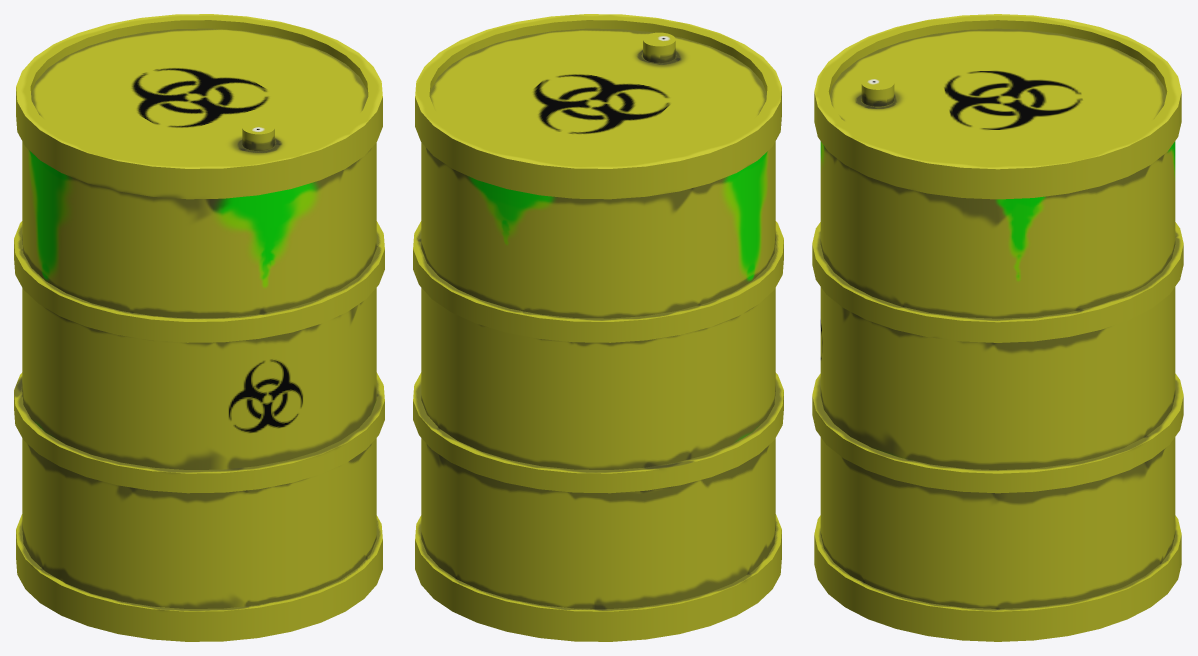
The model's file is toxicbarrel.fbx.
The picture shows the model from 3 angles, left to right: view 1: azimuth 30°, elevation 25°; view 2: azimuth 150°, elevation 25°; view 3: azimuth 270°, elevation 25°; orthographic projection.
Visible parts, largest first — view 1: Cylinder.001; view 2: Cylinder.001; view 3: Cylinder.001.
Boxes of the visible parts, x1,y1,x2,y2 form: Cylinder.001: [14, 14, 384, 641]; Cylinder.001: [413, 14, 783, 641]; Cylinder.001: [812, 14, 1183, 641].
Bounding box in the file's own units: 209 × 299 × 209.
